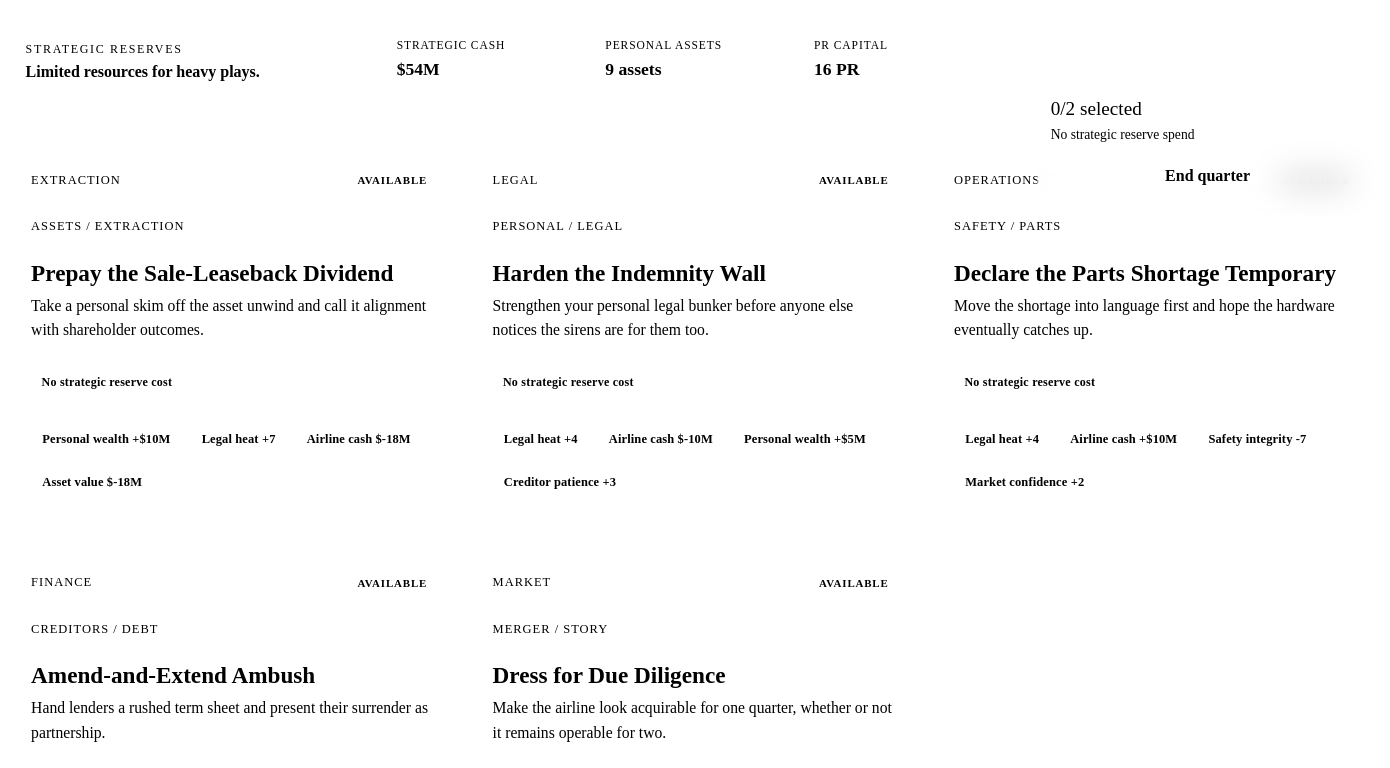
Test: DecisionSelectionScreen › selects and deselects cards from the full decision view
(page scrolled)
Click the button that starts with "extraction". click: {"x": 234, "y": 340}
box: [12,148,455,532]
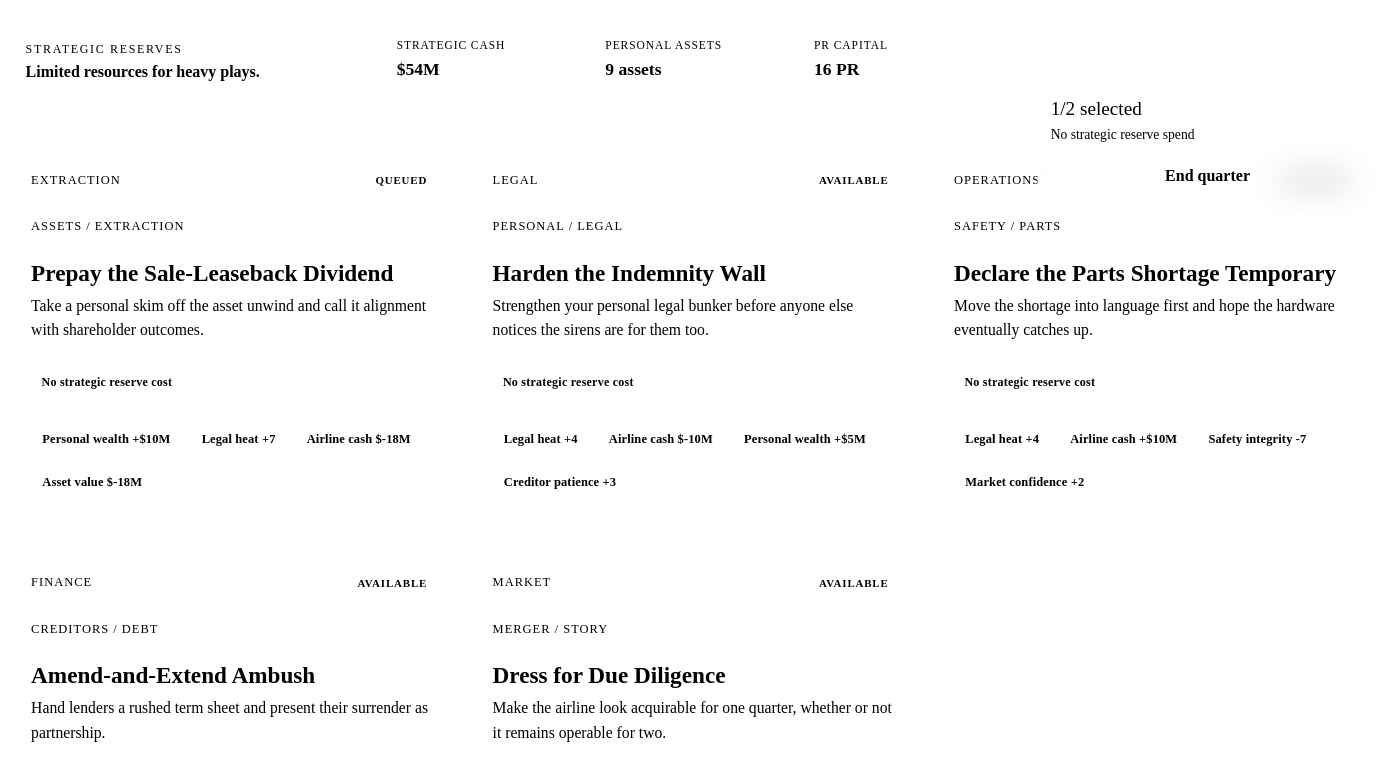
expect the text "1/2 selected" is shown: met, box [1051,98,1142,119]
Click the button that starts with "extraction". click: {"x": 234, "y": 340}
box: [12,148,455,532]
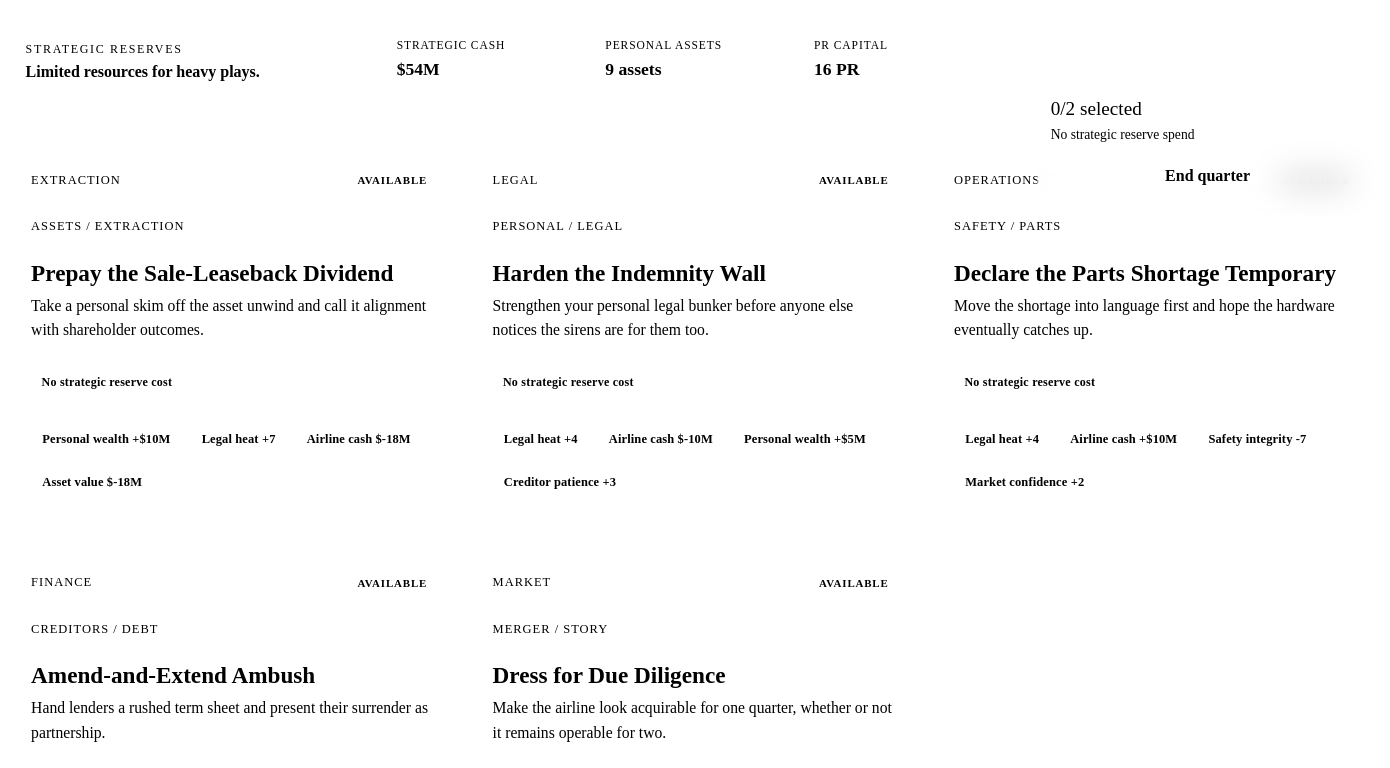
expect the text "0/2 selected" is shown: met, box [1051,98,1142,119]
